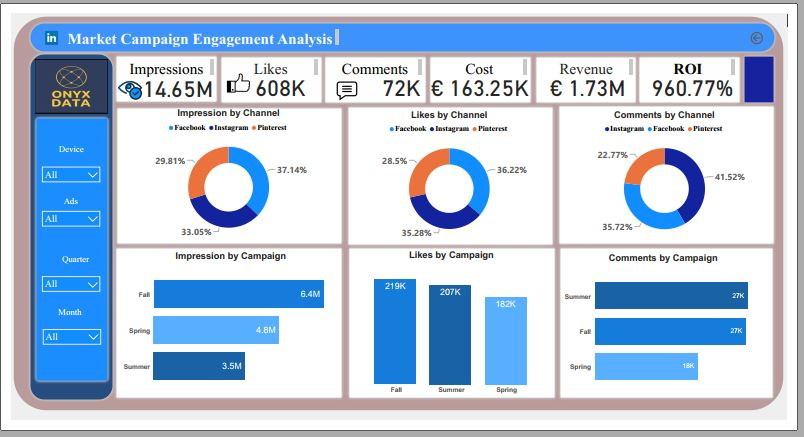

The dashboard page shown, as its layout file describes it:
{"tool":"powerbi","page":{"name":"Engagement Analysis","canvas":[1891,990],"ordinal":1},"visuals":[{"type":"shape","box":[0,0,1891.1,973.2],"z":0},{"type":"shape","box":[504.7,99,258,122.7],"z":1000},{"type":"shape","box":[760.4,99,258,122.7],"z":2000},{"type":"shape","box":[1014.9,99,259.1,122.7],"z":3000},{"type":"shape","box":[1273.2,100,257.1,123.2],"z":4000},{"type":"shape","box":[1526.3,99,258,122.7],"z":5000},{"type":"shape","box":[41.1,92.9,214.3,855.4],"z":6000},{"type":"shape","box":[250,98.2,258.9,123.2],"z":7000},{"type":"shape","title":"Impression by Channel","box":[251.8,223.2,560.7,344.6],"z":8000},{"type":"shape","box":[250,566.1,562.5,376.8],"z":9000},{"type":"shape","box":[1330.8,218.3,535.2,347.7],"z":10000},{"type":"shape","box":[816.1,221.4,510.7,348.2],"z":11000},{"type":"shape","box":[817.9,566.1,514.3,376.8],"z":12000},{"type":"shape","box":[1332.1,566.1,532.1,376.8],"z":13000},{"type":"shape","box":[1780.8,97.9,86.4,123.9],"z":14000},{"type":"donutChart","fields":{"Y":["measure_Table.Likes"],"Category":["data.Channel"]},"box":[821.4,232.1,494.6,326.8],"z":15000},{"type":"donutChart","fields":{"Y":["measure_Table.Comments"],"Category":["data.Channel"]},"box":[1332.1,232.1,521.4,326.8],"z":16000},{"type":"barChart","fields":{"Category":["data.Campaign"],"Y":["measure_Table.Comments"]},"box":[1342.9,582.1,494.6,351.8],"z":17000},{"type":"columnChart","fields":{"Category":["data.Campaign"],"Y":["measure_Table.Likes"]},"box":[826.8,575,494.6,358.9],"z":18000},{"type":"shape","box":[41.1,16.1,1826.8,83.9],"z":19000},{"type":"card","fields":{"Values":["measure_Table.Impression"]},"box":[298.2,132.1,217.9,87.5],"z":20000},{"type":"textbox","box":[267.9,107.1,230.4,50],"z":21000},{"type":"textbox","box":[522.1,107.1,230.4,50],"z":22000},{"type":"textbox","box":[776.4,107.1,230.4,50],"z":23000},{"type":"textbox","box":[1030.7,107.1,230.4,50],"z":24000},{"type":"textbox","box":[1291.1,107.1,230.4,50],"z":25000},{"type":"textbox","box":[1539.3,107.1,230.4,50],"z":26000},{"type":"card","fields":{"Values":["measure_Table.Likes"]},"box":[558.9,130.4,196.4,87.5],"z":27000},{"type":"card","fields":{"Values":["measure_Table.Comments"]},"box":[891.1,130.4,121.4,87.5],"z":28000},{"type":"card","fields":{"Values":["measure_Table.Cost"]},"box":[1017.9,130.4,251.8,87.5],"z":29000},{"type":"card","fields":{"Values":["measure_Table.Revenue"]},"box":[1285.7,130.4,241.1,87.5],"z":30000},{"type":"card","fields":{"Values":["measure_Table.ROI %"]},"box":[1539.3,130.4,244.6,87.5],"z":31000},{"type":"textbox","box":[125,33.9,678.6,50],"z":32000},{"type":"donutChart","fields":{"Y":["measure_Table.Impression"],"Category":["data.Channel"]},"box":[262.5,228.6,535.7,326.8],"z":33000},{"type":"barChart","fields":{"Category":["data.Campaign"],"Y":["measure_Table.Impression"]},"box":[267.9,576.8,535.7,357.1],"z":34000},{"type":"shape","box":[55.4,248.2,187.5,653.6],"z":35000},{"type":"slicer","fields":{"Values":["data.Device"]},"box":[66.1,362.5,160.7,60.7],"z":36000},{"type":"slicer","fields":{"Values":["data.Ad"]},"box":[66.1,471.4,160.7,60.7],"z":37000},{"type":"slicer","fields":{"Values":["Calendar_Table.Quarter"]},"box":[66.1,630.4,160.7,60.7],"z":38000},{"type":"shape","box":[62.5,692.9,162.5,66.1],"z":39000},{"type":"shape","box":[73.2,296.4,148.2,66.1],"z":40000},{"type":"shape","box":[64.3,423.2,162.5,66.1],"z":41000},{"type":"shape","box":[76.1,565.4,162.5,66.1],"z":42000},{"type":"slicer","fields":{"Values":["Calendar_Table.MonthName"]},"box":[67.9,758.9,160.7,57.1],"z":43000},{"type":"image","box":[500,130.4,108.9,76.8],"z":44000},{"type":"image","box":[55.4,33.9,87.5,50],"z":45000},{"type":"image","box":[744.6,157.1,146.4,60.7],"z":46000},{"type":"image","box":[55.4,107.1,183.9,141.1],"z":47000},{"type":"image","box":[251.8,151.8,73.2,66.1],"z":48000},{"type":"actionButton","box":[1798.2,39.3,48.2,39.3],"z":49000}]}

Visuals, with their boxes on the page's 1891x990 design canvas (x1, y1, x2, y2). These are canvas units, not pixel positions in the 804x437 screenshot, which may show the page scaled, cropped or inside an application window:
shape: box(0, 0, 1891, 973)
shape: box(505, 99, 763, 222)
shape: box(760, 99, 1018, 222)
shape: box(1015, 99, 1274, 222)
shape: box(1273, 100, 1530, 223)
shape: box(1526, 99, 1784, 222)
shape: box(41, 93, 255, 948)
shape: box(250, 98, 509, 221)
"Impression by Channel" shape: box(252, 223, 812, 568)
shape: box(250, 566, 812, 943)
shape: box(1331, 218, 1866, 566)
shape: box(816, 221, 1327, 570)
shape: box(818, 566, 1332, 943)
shape: box(1332, 566, 1864, 943)
shape: box(1781, 98, 1867, 222)
donutChart - measure_Table.Likes x data.Channel: box(821, 232, 1316, 559)
donutChart - measure_Table.Comments x data.Channel: box(1332, 232, 1854, 559)
barChart - data.Campaign x measure_Table.Comments: box(1343, 582, 1838, 934)
columnChart - data.Campaign x measure_Table.Likes: box(827, 575, 1321, 934)
shape: box(41, 16, 1868, 100)
card - measure_Table.Impression: box(298, 132, 516, 220)
textbox: box(268, 107, 498, 157)
textbox: box(522, 107, 752, 157)
textbox: box(776, 107, 1007, 157)
textbox: box(1031, 107, 1261, 157)
textbox: box(1291, 107, 1522, 157)
textbox: box(1539, 107, 1770, 157)
card - measure_Table.Likes: box(559, 130, 755, 218)
card - measure_Table.Comments: box(891, 130, 1012, 218)
card - measure_Table.Cost: box(1018, 130, 1270, 218)
card - measure_Table.Revenue: box(1286, 130, 1527, 218)
card - measure_Table.ROI %: box(1539, 130, 1784, 218)
textbox: box(125, 34, 804, 84)
donutChart - measure_Table.Impression x data.Channel: box(262, 229, 798, 555)
barChart - data.Campaign x measure_Table.Impression: box(268, 577, 804, 934)
shape: box(55, 248, 243, 902)
slicer - data.Device: box(66, 362, 227, 423)
slicer - data.Ad: box(66, 471, 227, 532)
slicer - Calendar_Table.Quarter: box(66, 630, 227, 691)
shape: box(62, 693, 225, 759)
shape: box(73, 296, 221, 362)
shape: box(64, 423, 227, 489)
shape: box(76, 565, 239, 632)
slicer - Calendar_Table.MonthName: box(68, 759, 229, 816)
image: box(500, 130, 609, 207)
image: box(55, 34, 143, 84)
image: box(745, 157, 891, 218)
image: box(55, 107, 239, 248)
image: box(252, 152, 325, 218)
actionButton: box(1798, 39, 1846, 79)
